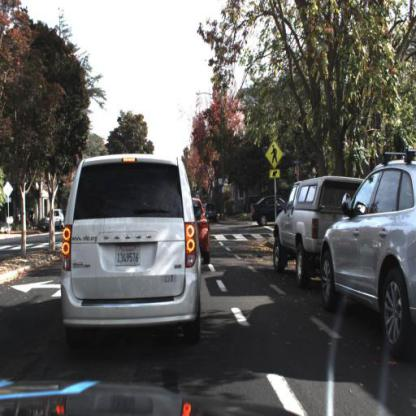car: (59, 153, 204, 351), (320, 143, 416, 359), (271, 171, 370, 288), (187, 195, 212, 268), (240, 192, 265, 219), (44, 208, 67, 233), (204, 199, 220, 222)
pedestrian: (28, 205, 38, 234)
